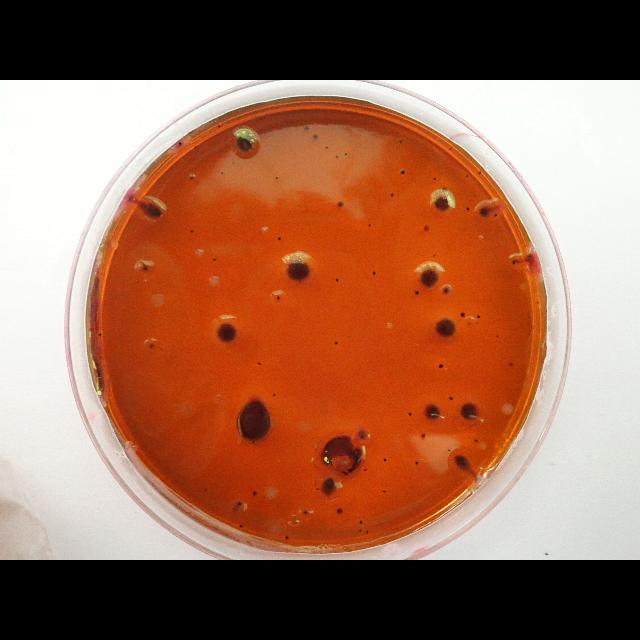colony: (236, 398, 272, 442), (136, 194, 170, 226), (284, 256, 314, 284), (232, 124, 258, 156), (430, 186, 456, 214), (434, 316, 458, 338), (216, 321, 237, 343), (420, 266, 440, 288), (452, 452, 473, 472), (458, 400, 478, 420), (422, 402, 442, 422), (322, 477, 336, 497), (478, 203, 492, 220), (357, 426, 368, 439), (138, 262, 152, 272), (441, 284, 452, 296), (399, 167, 407, 177), (421, 224, 431, 232), (336, 506, 344, 516), (336, 200, 344, 210), (312, 133, 321, 141), (414, 288, 421, 298), (302, 125, 310, 133), (398, 138, 404, 146), (324, 144, 330, 152), (465, 204, 471, 212), (511, 258, 517, 266), (189, 173, 195, 181), (407, 410, 413, 418), (431, 175, 437, 182), (464, 173, 470, 180), (414, 459, 420, 466), (389, 192, 395, 198), (460, 312, 466, 318), (494, 333, 500, 339), (508, 361, 514, 367), (438, 362, 444, 368), (420, 433, 426, 439), (252, 490, 258, 496), (237, 500, 243, 506), (148, 343, 154, 349), (276, 236, 282, 242), (367, 222, 373, 228), (494, 212, 498, 220), (239, 522, 243, 530), (478, 170, 482, 177), (334, 154, 338, 160), (344, 151, 348, 157), (448, 146, 452, 152), (432, 252, 436, 258), (477, 314, 481, 320), (467, 320, 471, 326), (474, 438, 478, 444), (446, 448, 452, 452), (382, 457, 386, 463), (382, 488, 386, 494), (315, 486, 319, 492), (358, 520, 364, 524), (284, 536, 290, 540), (272, 392, 276, 398), (334, 340, 338, 346), (98, 332, 102, 338), (136, 278, 140, 284), (212, 256, 216, 262), (190, 228, 194, 234), (276, 295, 280, 301), (335, 278, 339, 284), (372, 270, 376, 276), (275, 175, 279, 181), (220, 170, 224, 176), (178, 140, 182, 146), (448, 396, 452, 400), (363, 468, 367, 472), (358, 528, 362, 532), (365, 530, 369, 534), (303, 510, 307, 514), (204, 488, 208, 492), (257, 362, 261, 366), (232, 161, 236, 165), (252, 440, 254, 444), (218, 124, 220, 128)
